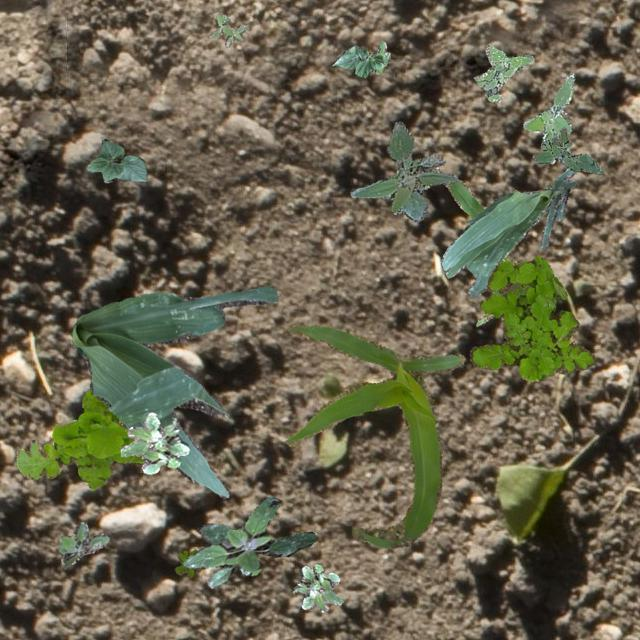crop: (70, 286, 276, 498), (284, 324, 464, 546), (439, 166, 577, 296), (431, 166, 507, 326), (86, 138, 146, 182), (332, 40, 388, 76)
weed: (468, 256, 594, 380), (15, 388, 144, 488), (182, 494, 316, 588), (350, 120, 456, 220), (120, 412, 188, 472), (522, 72, 574, 142), (472, 42, 532, 102), (532, 126, 602, 174), (58, 522, 108, 568), (292, 564, 342, 610), (208, 13, 246, 46), (173, 548, 200, 576)
